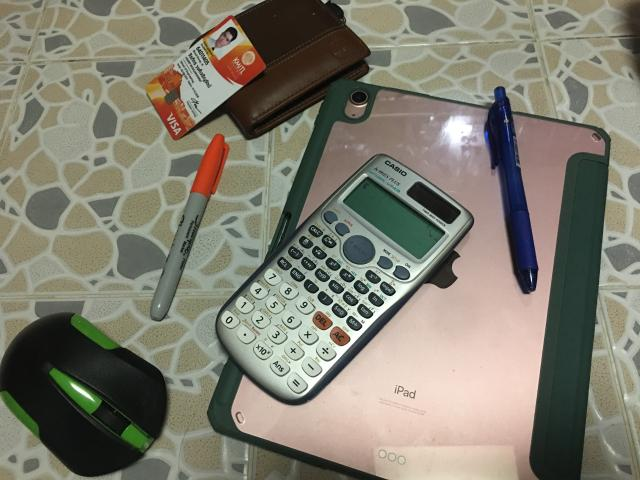Mouse: (0, 312, 166, 476)
Pen: (150, 134, 229, 321), (486, 86, 539, 292)
Wallet: (183, 0, 370, 139)
